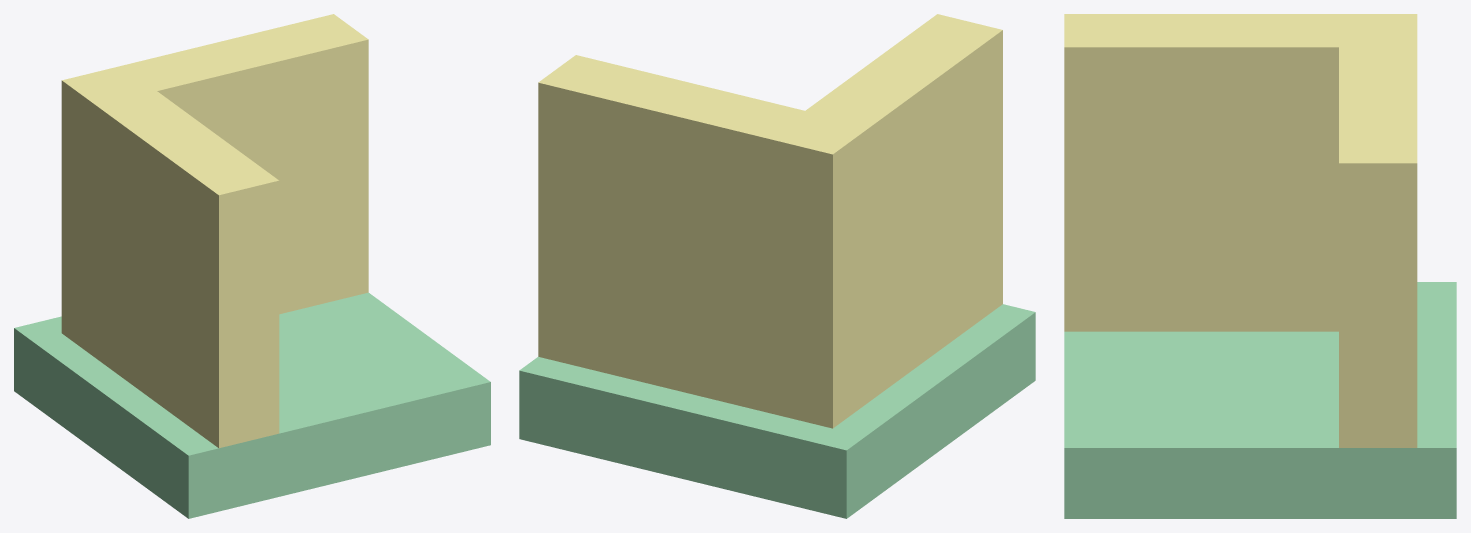
Rendered from HouseBaseWallCorner.fbx.
3 renders of one model, left to right at view 1: azimuth 30°, elevation 25°; view 2: azimuth 150°, elevation 25°; view 3: azimuth 270°, elevation 25°, orthographic. The views are drawn at different scales.
Visible parts, largest first — view 1: HouseBaseWallCorner; view 2: HouseBaseWallCorner; view 3: HouseBaseWallCorner.
Part boxes in pixels (<box>): HouseBaseWallCorner: <box>14,14,490,518</box>; HouseBaseWallCorner: <box>519,14,1035,518</box>; HouseBaseWallCorner: <box>1064,14,1456,518</box>.
Size of the model in its own units: 200 by 200 by 200.
